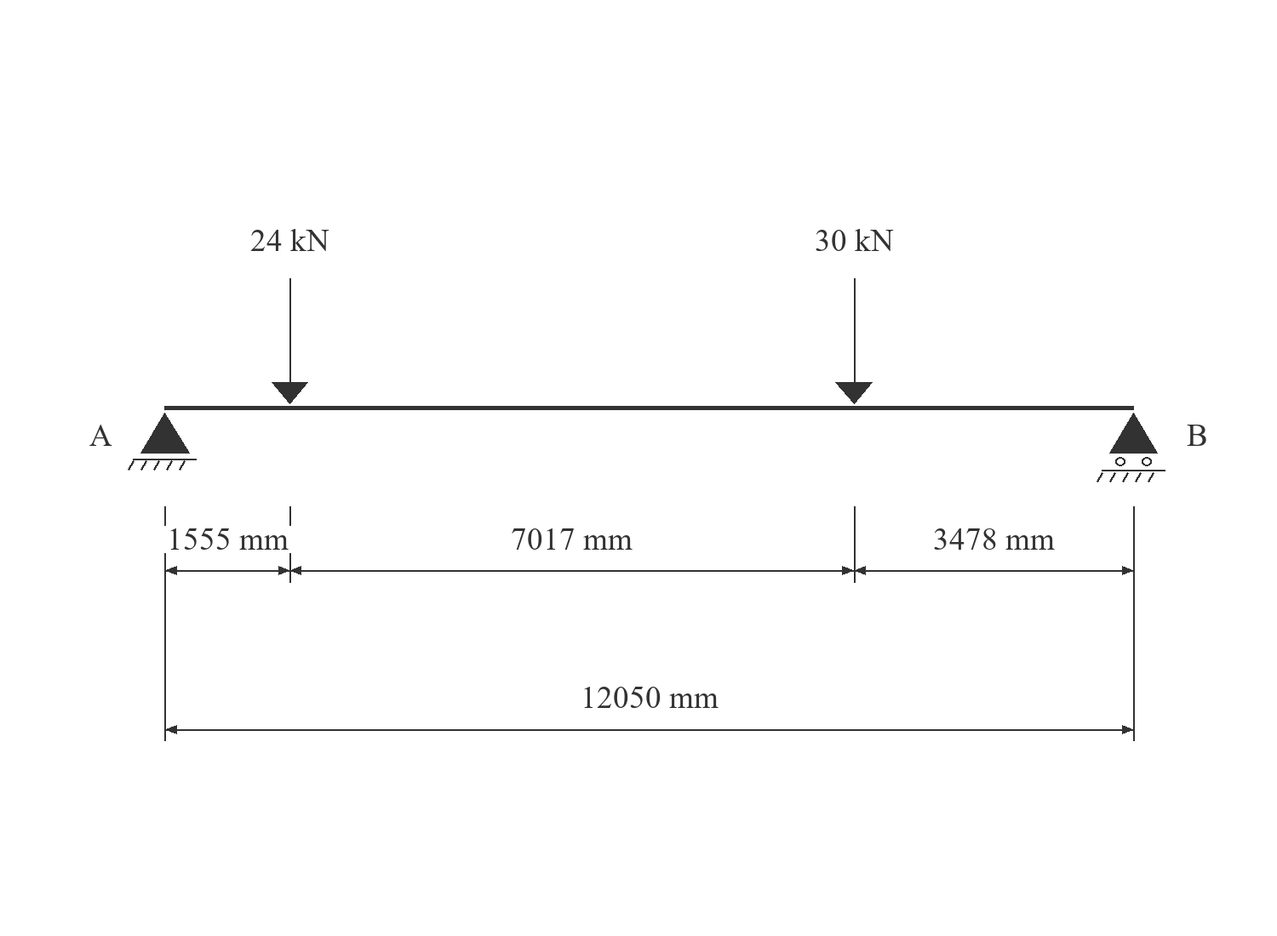pin_support: (128, 413, 197, 471)
point_load: (835, 278, 873, 404), (272, 278, 308, 404)
roller_support: (1097, 413, 1165, 482)
